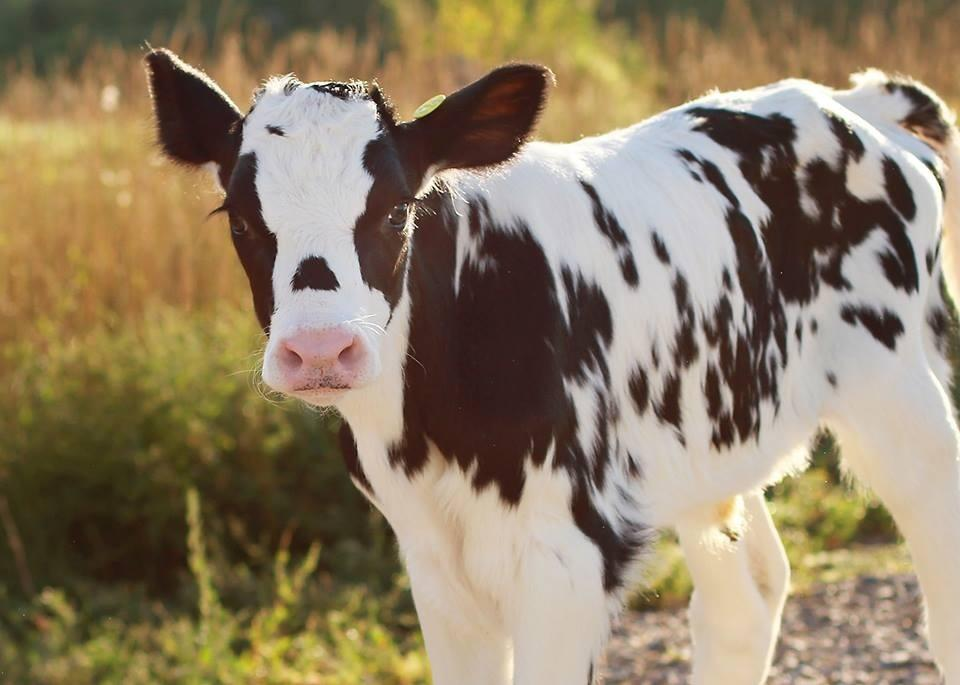muzzles: (251, 328, 396, 416)
